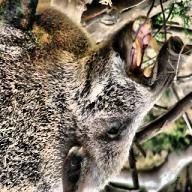boar: (0, 1, 190, 192)
